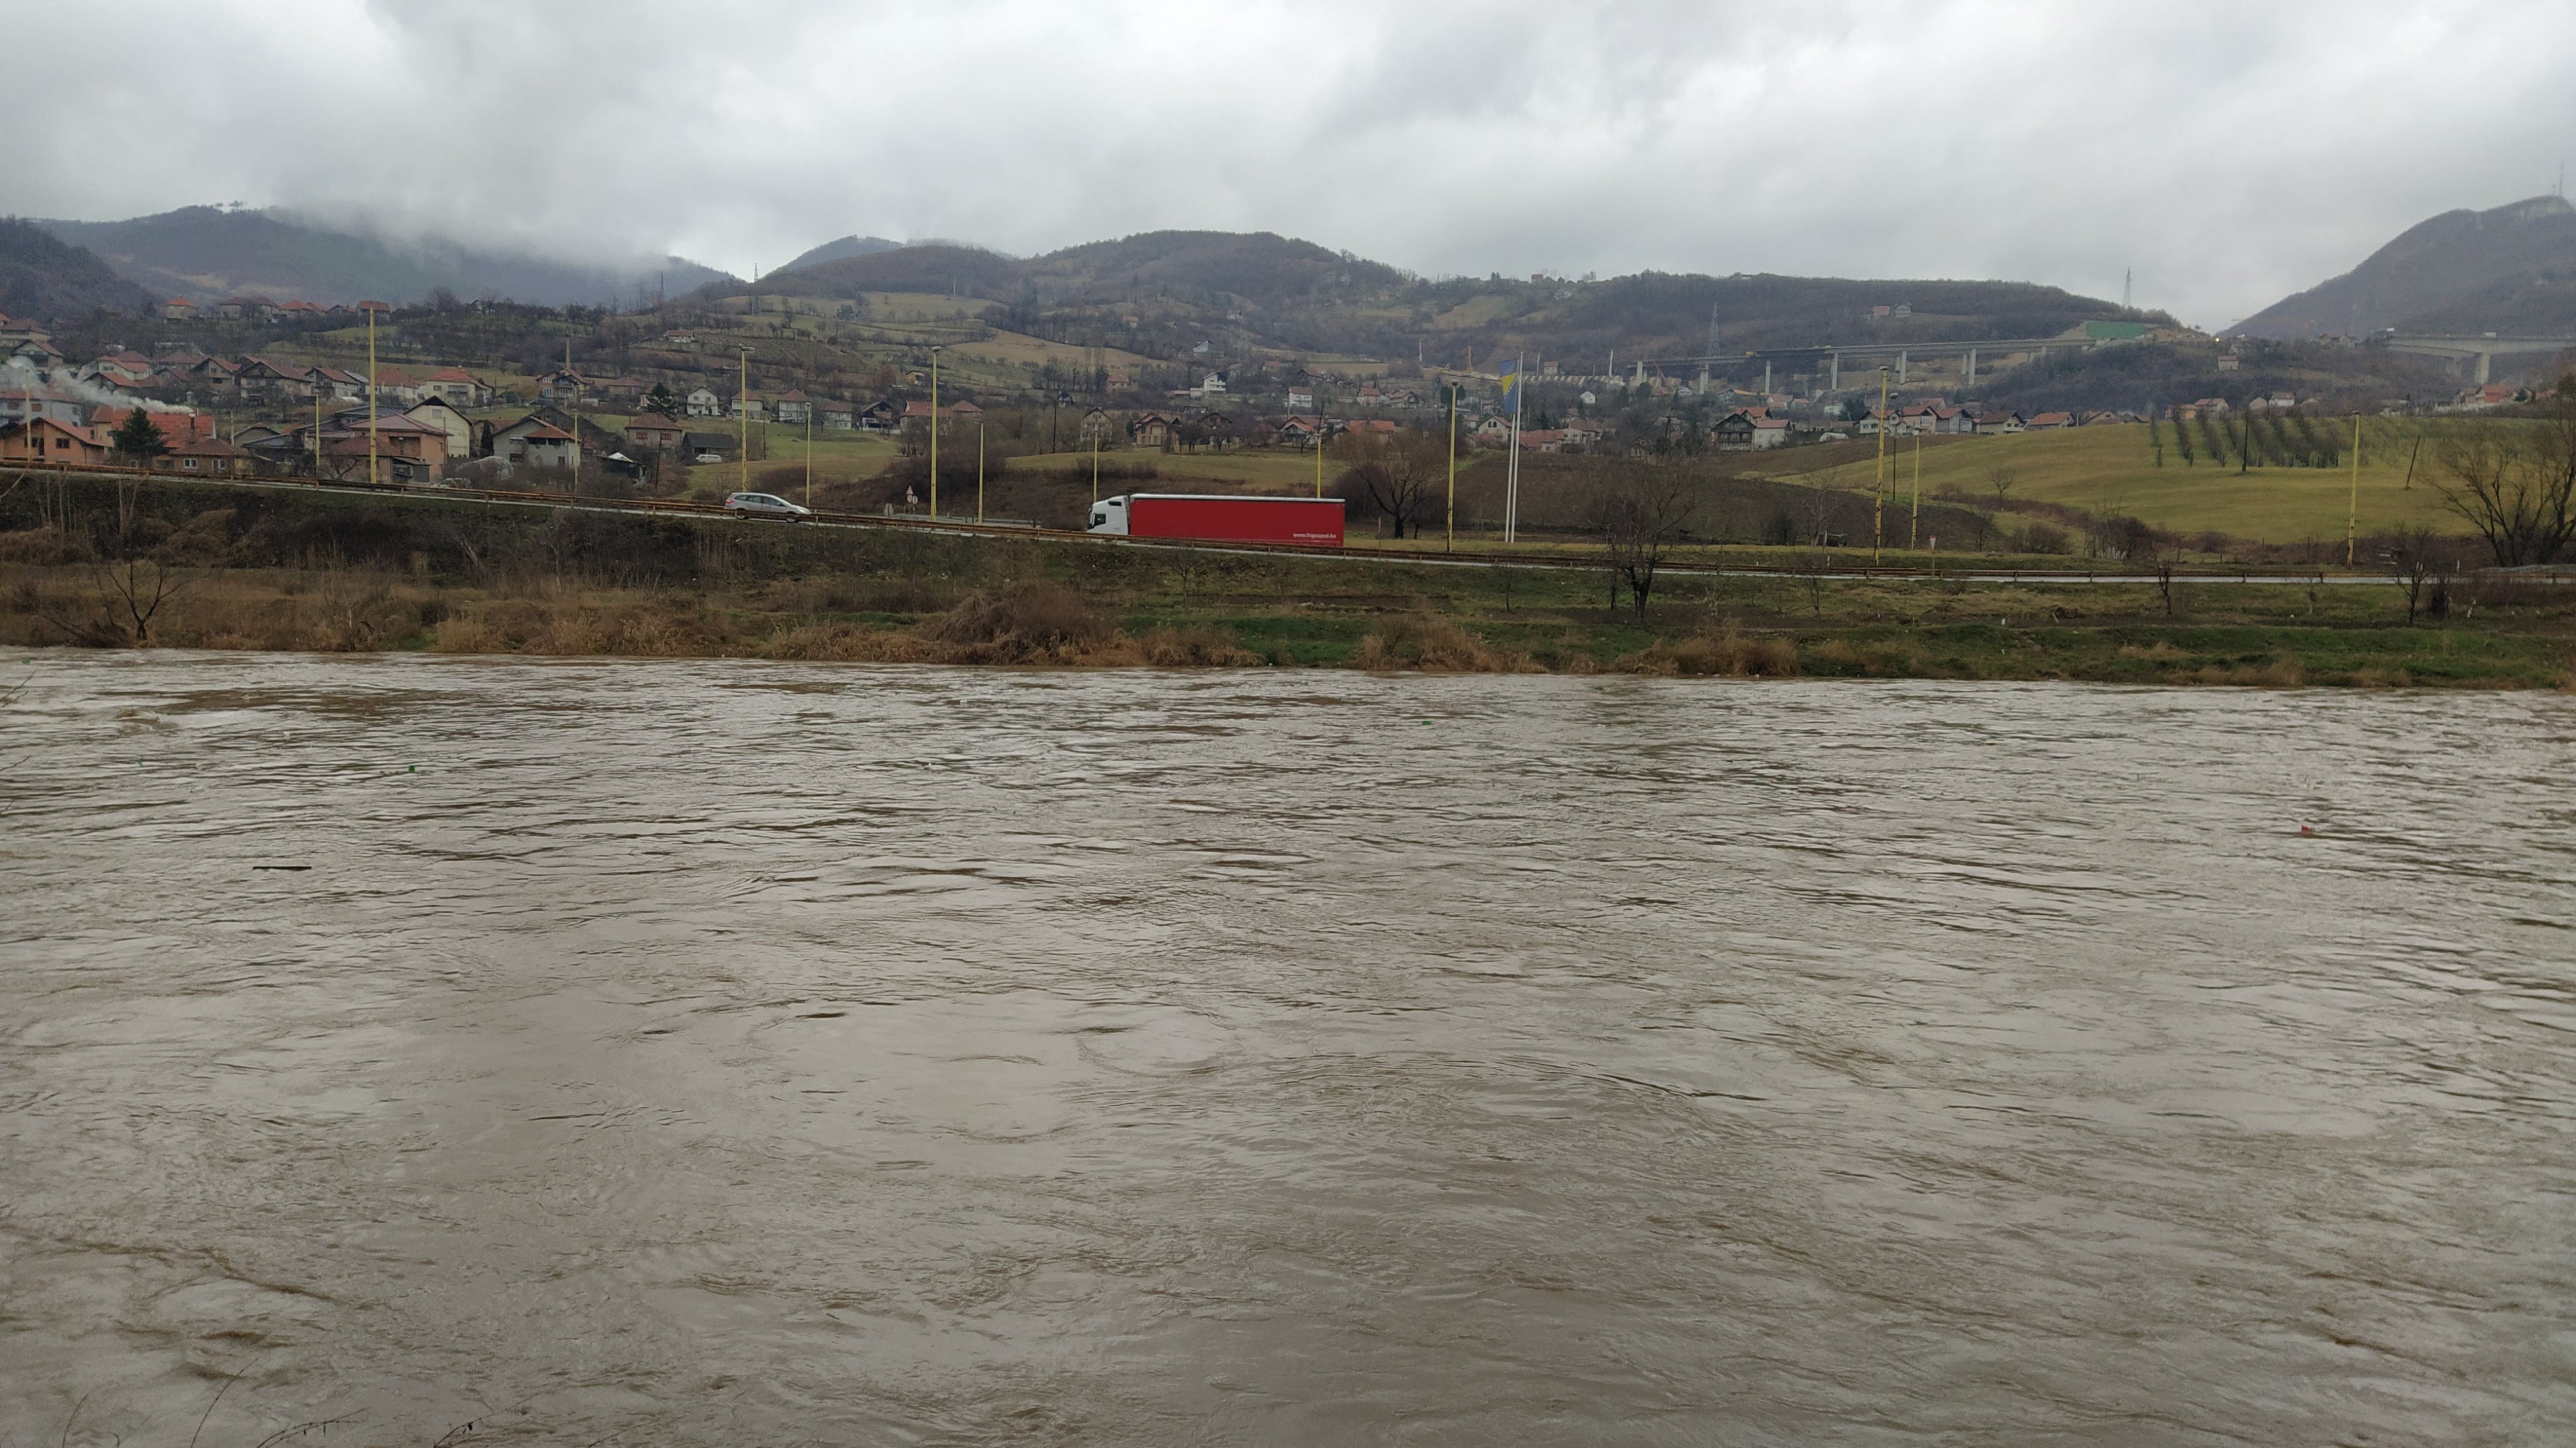Plastic Bottle: (2300, 825, 2316, 832), (407, 765, 416, 772), (1421, 720, 1431, 724), (285, 731, 290, 736), (23, 659, 30, 662), (138, 758, 142, 765), (959, 699, 966, 703), (1596, 687, 1601, 689)
